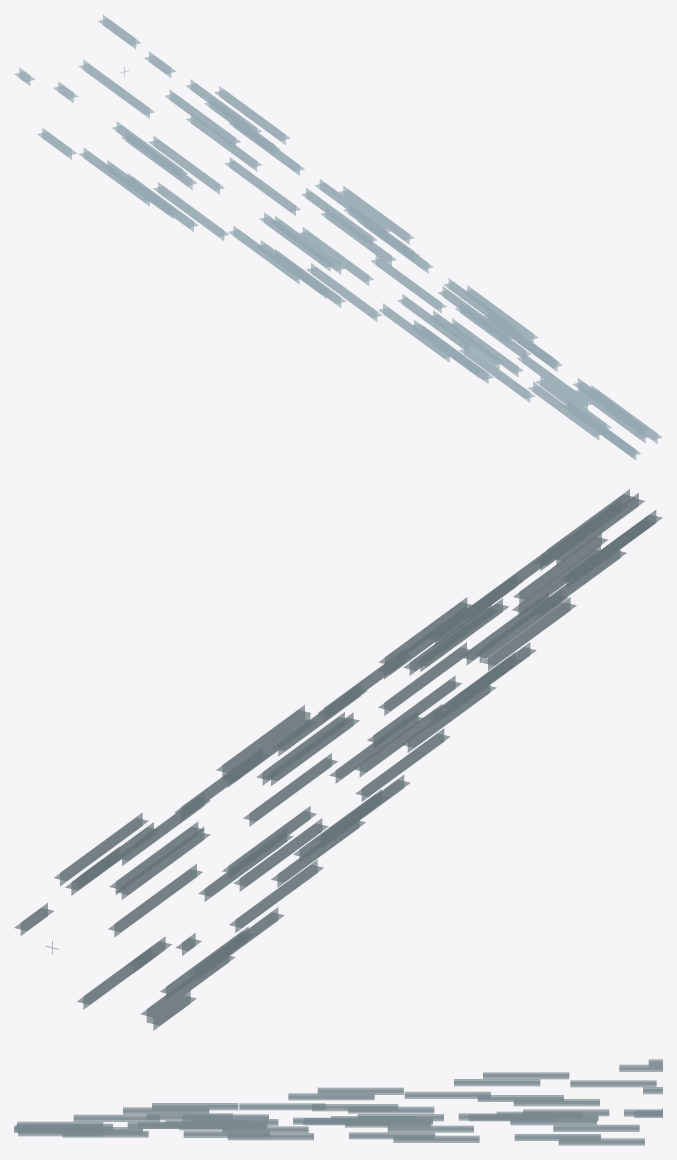
The model's file is wp_water_335.obj.
The picture shows the model from 3 angles, top to bottom: view 1: azimuth 30°, elevation 25°; view 2: azimuth 150°, elevation 25°; view 3: azimuth 270°, elevation 25°; orthographic projection. The views are drawn at different scales.
Bounding box in the file's own units: 0.3326 × 0.2565 × 1.8.
Materials: 1 (1 with a texture image).
